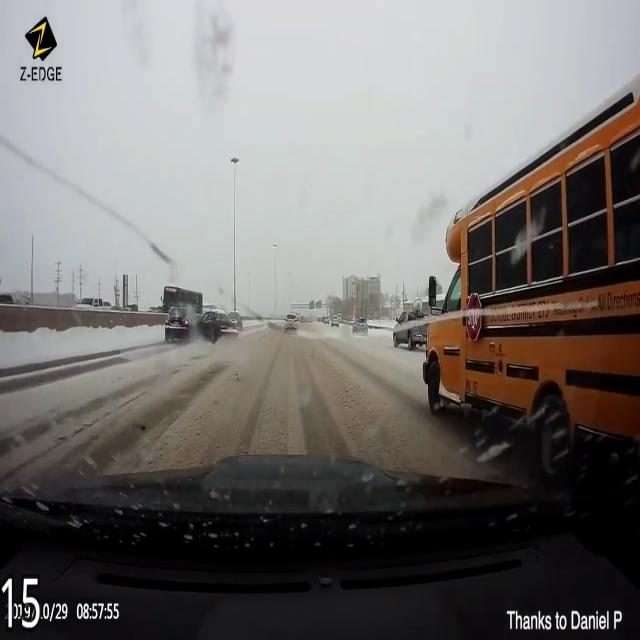accident: (162, 308, 243, 350)
